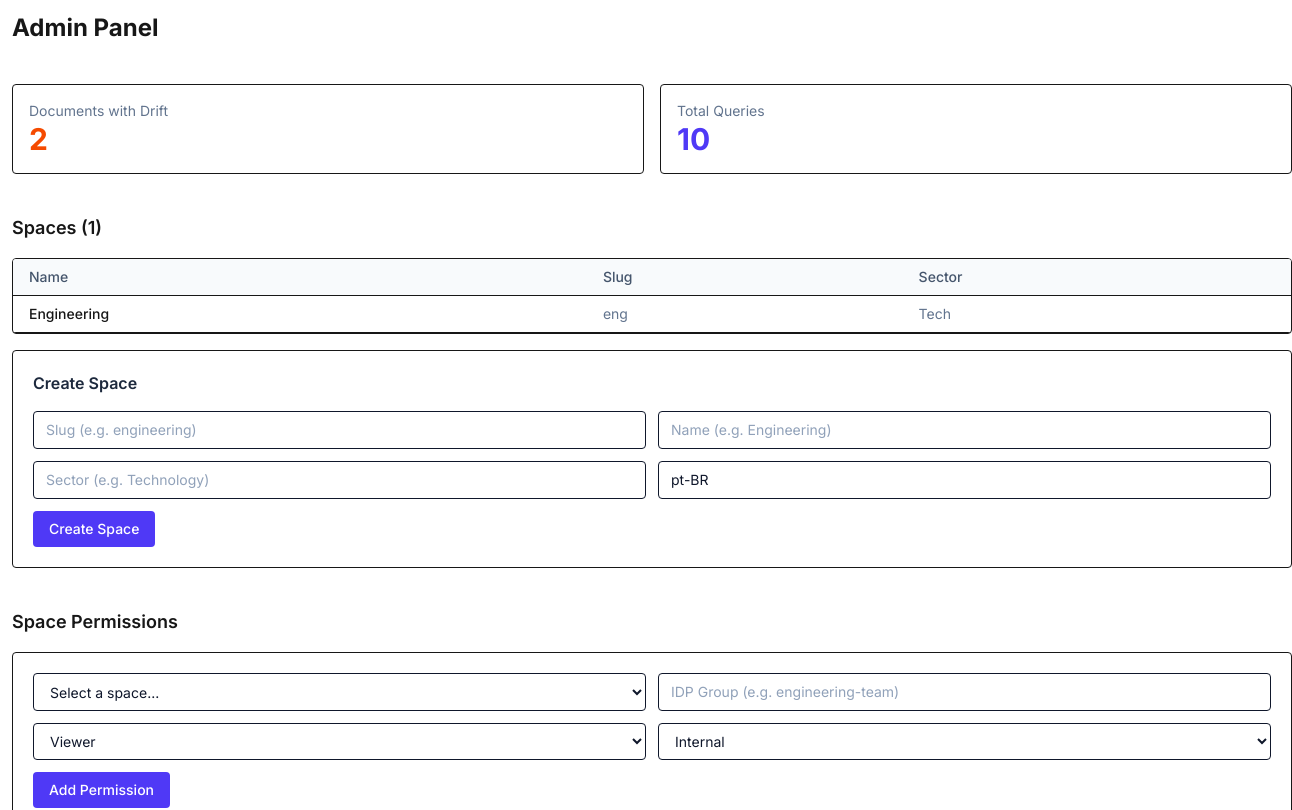
Admin page — Create Space form › appends new space to table and resets form on successful creation
Type "qa" into the field with placeholder "Slug (e.g. engineering)" at [340, 430], box [33,411,646,449]
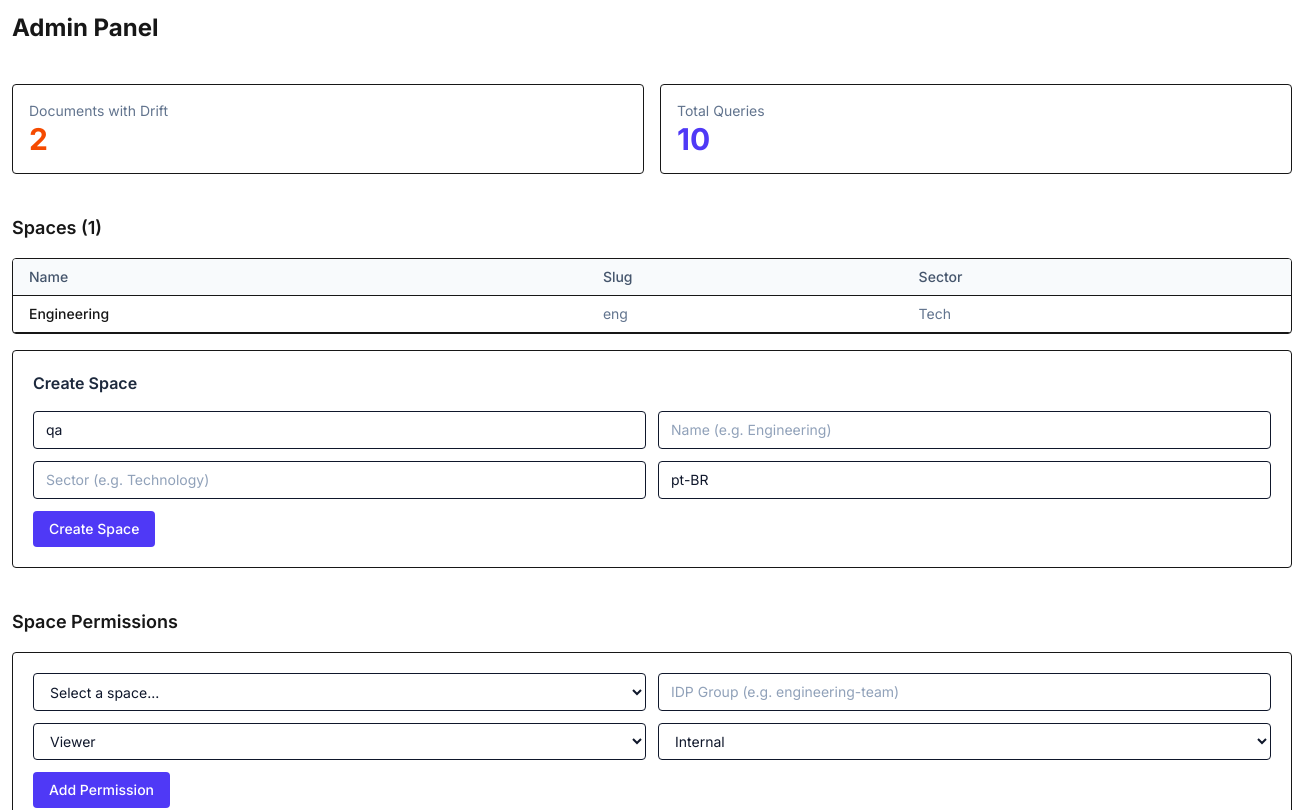
Type "QA Team" into the field with placeholder "Name (e.g. Engineering)" at [964, 430], box [658,411,1271,449]
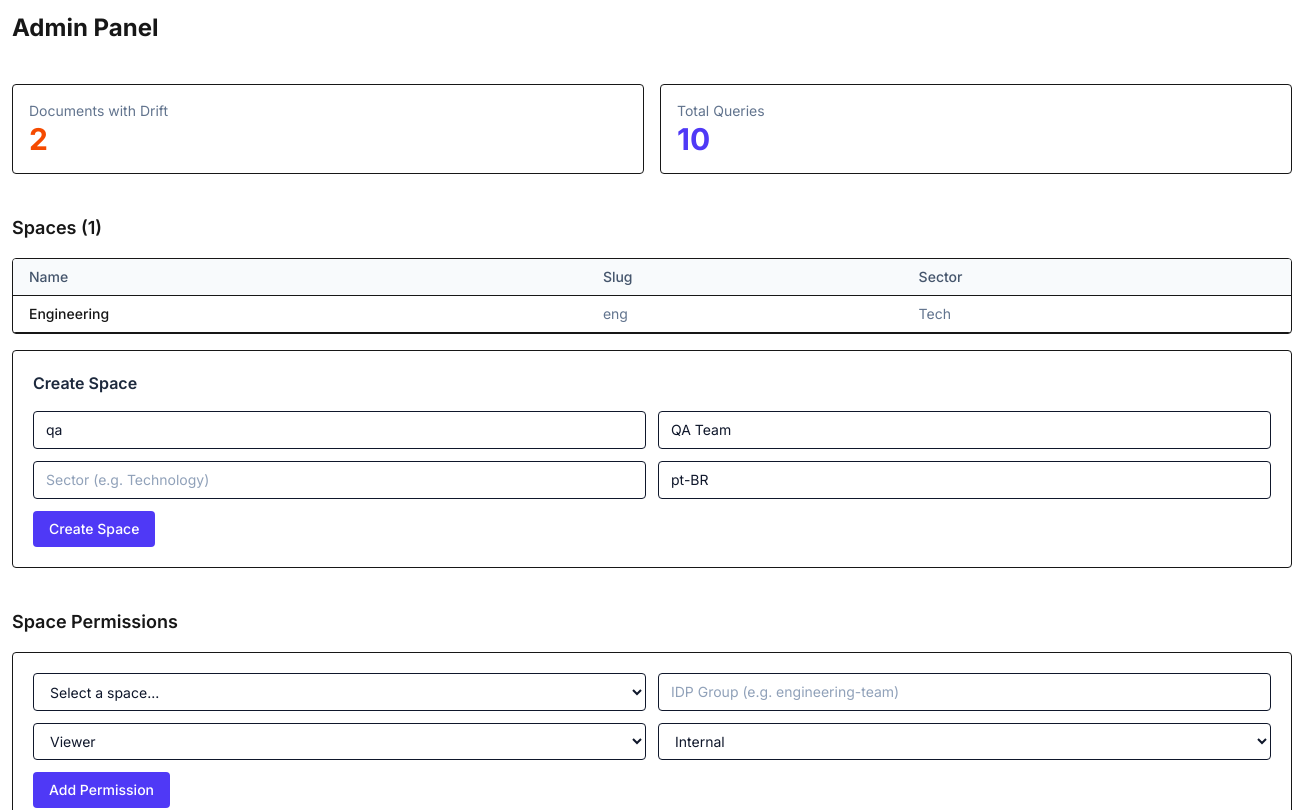
Type "Quality" into the field with placeholder "Sector (e.g. Technology)" at [340, 480], box [33,461,646,499]
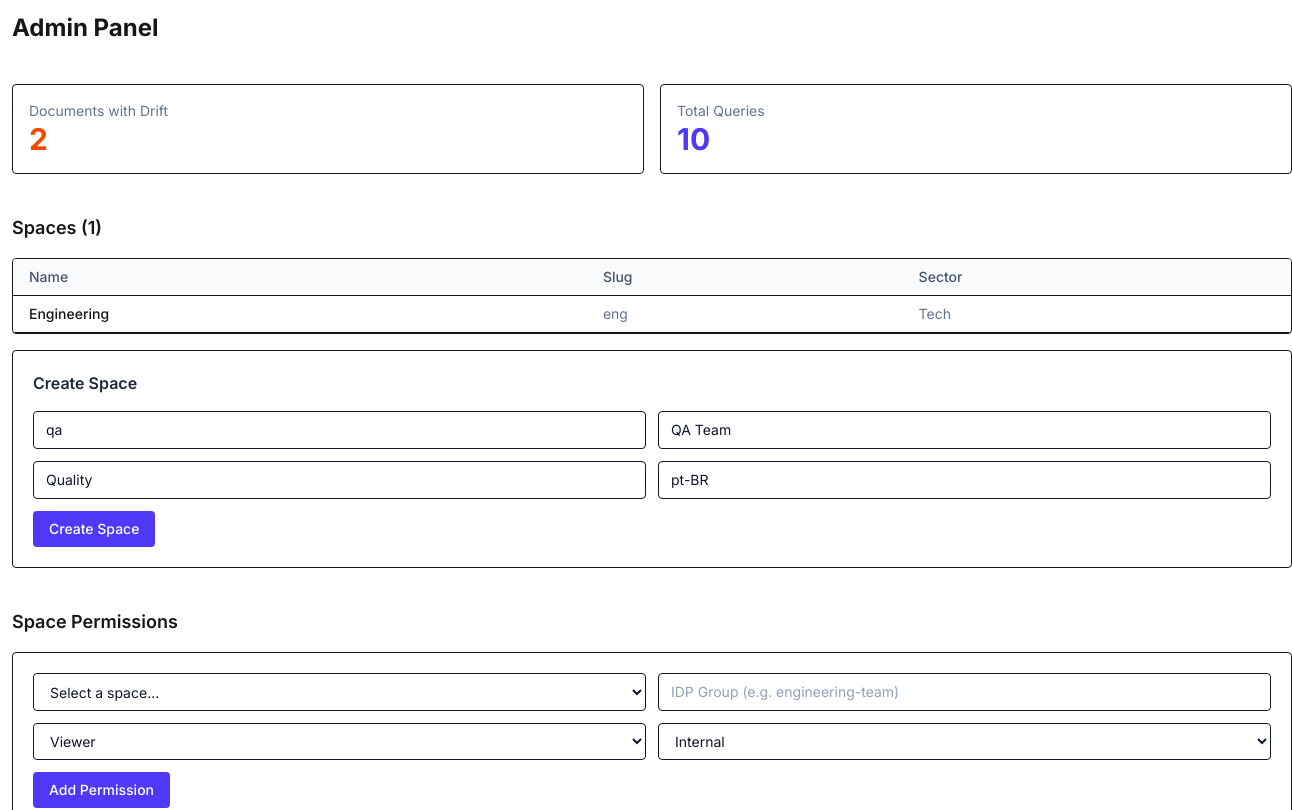
Click the button "Create Space" at [94, 529], box [33,511,155,547]
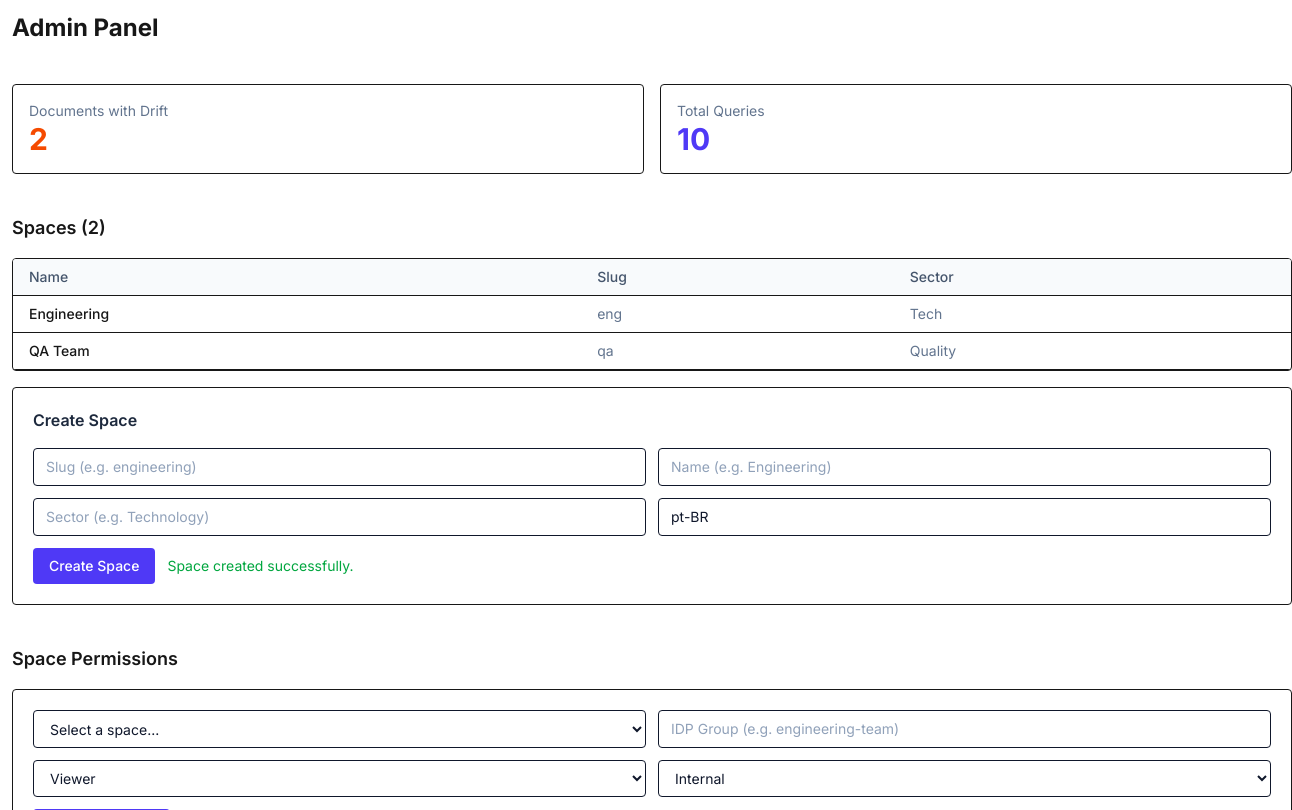
Result: the text "QA Team" is shown at [13,332,581,370]
Result: the field with placeholder "Slug (e.g. engineering)" is empty at [33,448,646,486]
